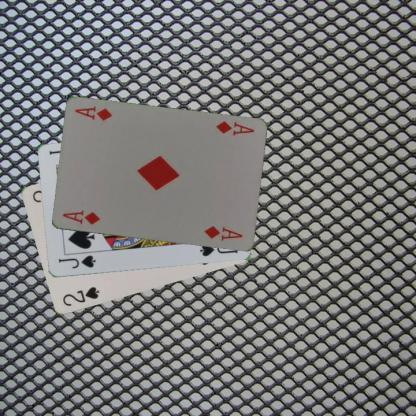2s: (60, 284, 100, 308)
Ad: (212, 119, 254, 138), (60, 208, 101, 226)
Js: (56, 252, 96, 271)
